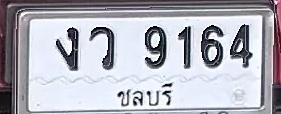1: (178, 26, 192, 68)
4: (230, 23, 252, 68)
6: (200, 24, 224, 68)
9: (144, 25, 166, 69)
A07: (55, 26, 79, 71)
A37: (89, 26, 115, 70)
CBI: (111, 81, 175, 109)
